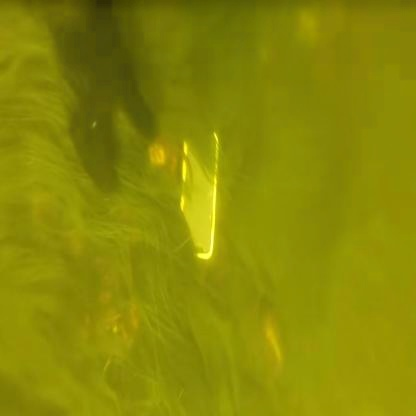cellphone: (178, 126, 218, 263)
